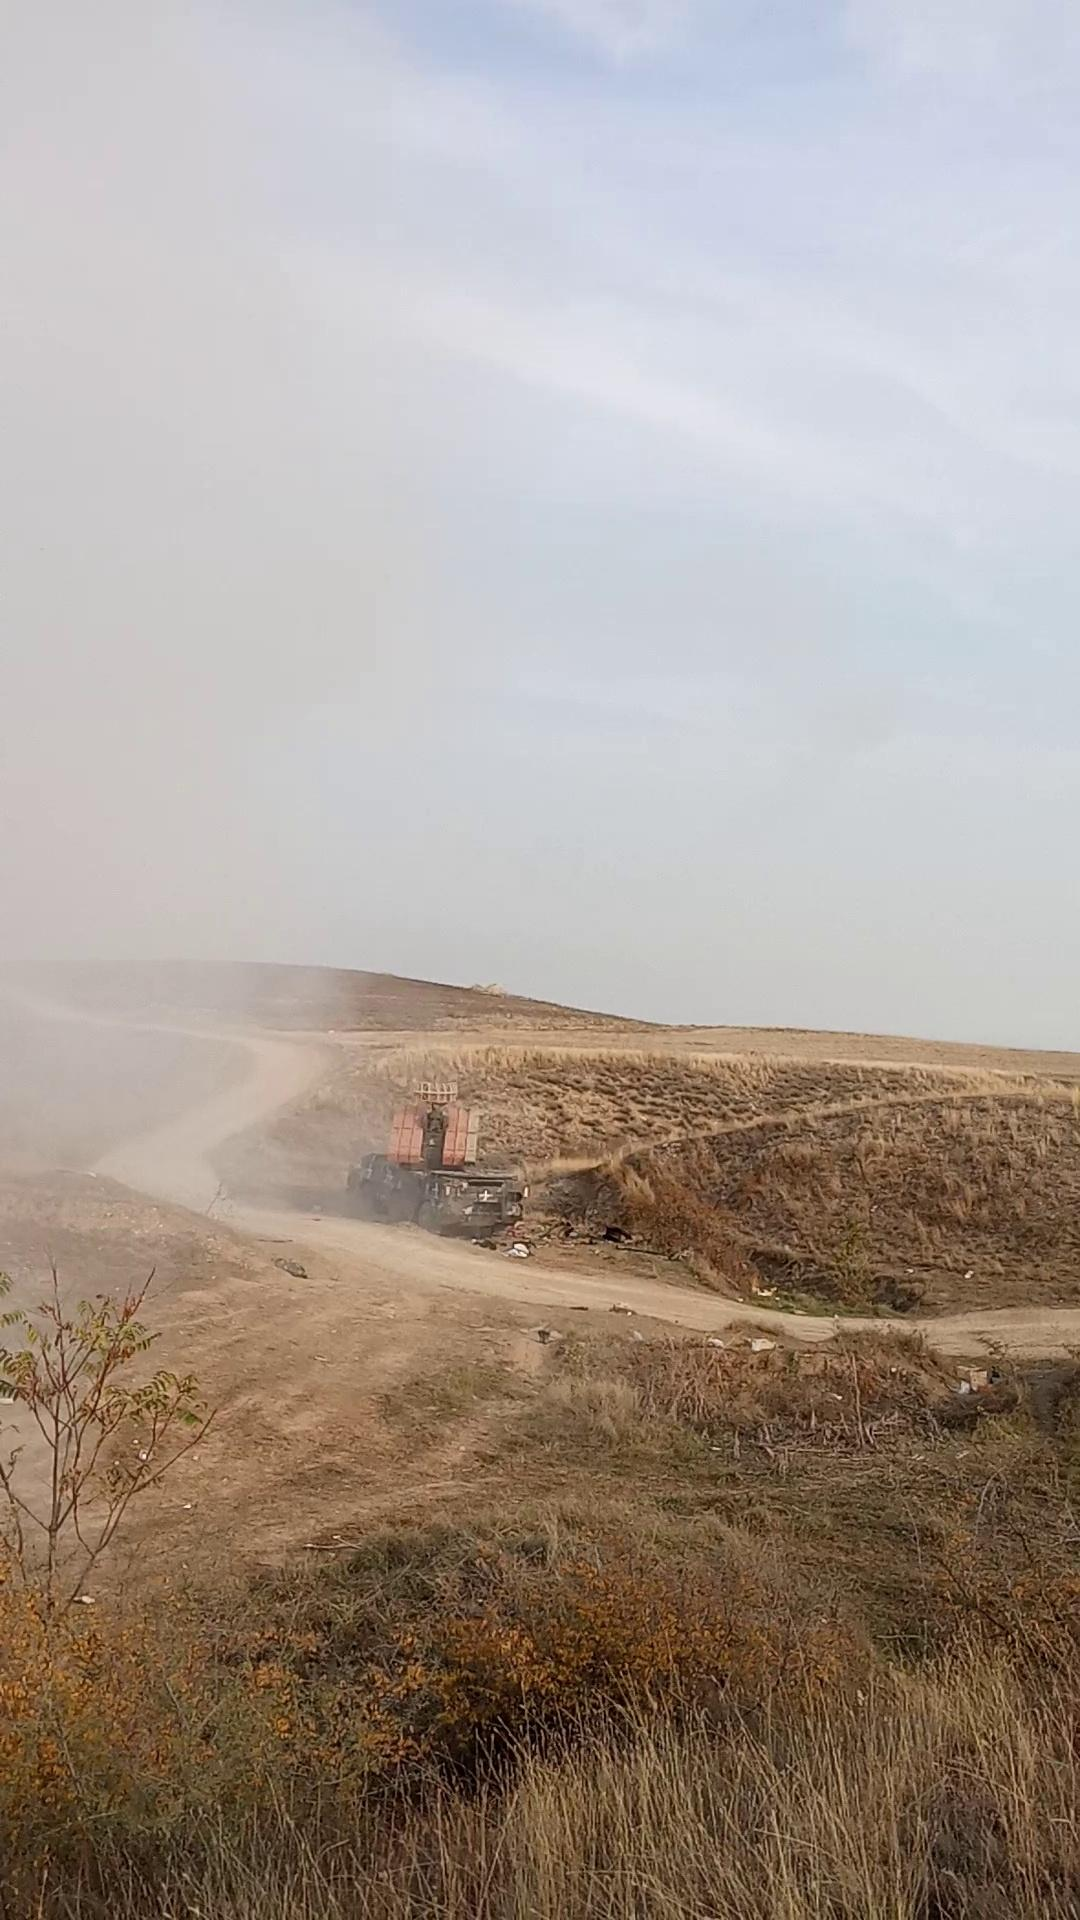MIL_SAM_TEL: (340, 1073, 529, 1253)
